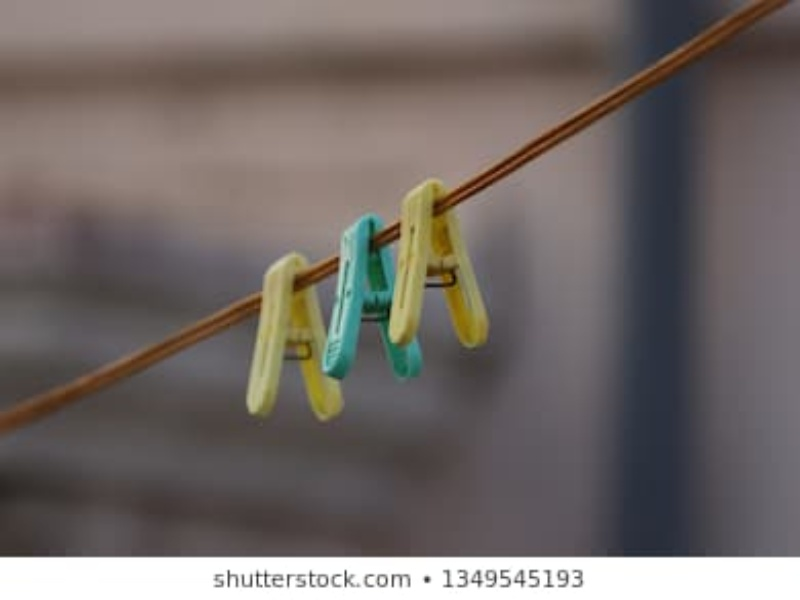plastic-peg: (320, 217, 434, 380), (391, 181, 493, 350), (249, 250, 346, 424)
